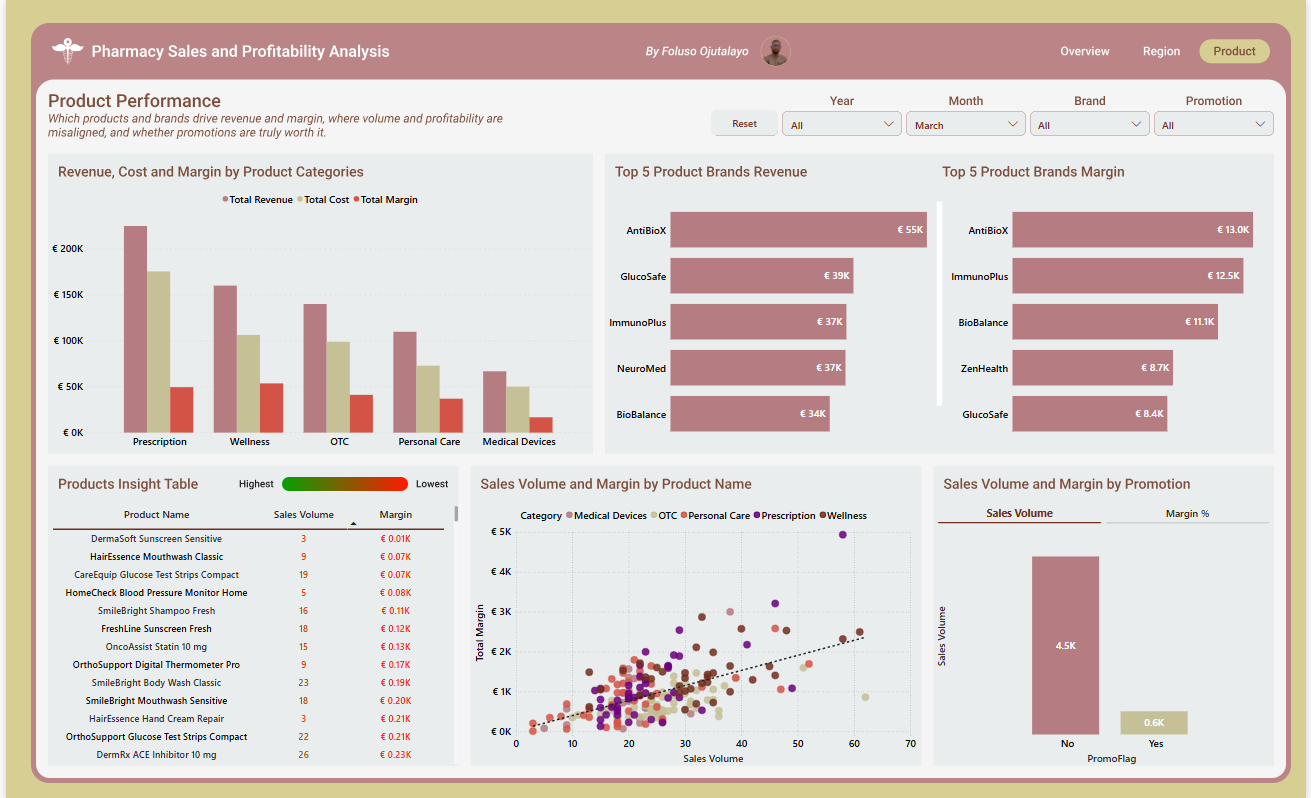

What the dashboard file says about the page in this screenshot:
{"tool":"powerbi","page":{"name":"Product","canvas":[2600,1600],"ordinal":2},"visuals":[{"type":"slicer","fields":{"Values":["DimProduct.Brand"]},"box":[2048.6,220.3,238.3,50.8],"z":0},{"type":"slicer","fields":{"Values":["FactSales.PromoFlag"]},"box":[2296.4,220.3,238.6,50.7],"z":1000},{"type":"slicer","fields":{"Values":["DimDate.Month"]},"box":[1801.4,220.1,237.8,51.1],"z":2000},{"type":"slicer","fields":{"Values":["DimDate.Year"]},"box":[1554.3,220.4,237.6,50.6],"z":3000},{"type":"actionButton","title":"Reset","box":[1410.8,220.1,134,51.2],"z":4000},{"type":"clusteredColumnChart","fields":{"Category":["DimProduct.Category"],"Y":["_Measures.Total Revenue","_Measures.Total Cost","_Measures.Total Margin"]},"box":[85.6,374.4,1088.9,532.2],"z":5000},{"type":"clusteredBarChart","fields":{"Category":["DimProduct.Brand"],"Y":["_Measures.Total Revenue"]},"box":[1200,374.4,651.1,533.3],"z":6000},{"type":"clusteredBarChart","fields":{"Category":["DimProduct.Brand"],"Y":["_Measures.Total Margin"]},"box":[1883.3,373.3,651.1,533.3],"z":7000},{"type":"tableEx","fields":{"Values":["DimProduct.ProductName","_Measures.Sales Volume","_Measures.Total Margin"]},"box":[87,1005,822,528],"z":8000},{"type":"scatterChart","fields":{"X":["_Measures.Sales Volume"],"Category":["DimProduct.ProductName"],"Y":["_Measures.Total Margin"],"Series":["DimProduct.Category"]},"box":[931.4,1005.7,892.9,528.6],"z":9000},{"type":"clusteredColumnChart","fields":{"Y":["_Measures.Sales Volume"],"Category":["FactSales.PromoFlag"]},"box":[1855,1061,679,472],"z":10000},{"type":"advancedSlicerVisual","fields":{"Values":["Sales Volume Margin %.Sales Volume Margin %"]},"box":[1858.7,996,674,56],"z":14000},{"type":"actionButton","box":[2098.8,82.5,123.8,43.8],"z":14001},{"type":"actionButton","box":[2248.8,82.5,123.8,43.8],"z":14002},{"type":"actionButton","box":[2397.5,82.5,123.8,43.8],"z":14003}]}

Visuals, with their boxes in screenshot pixels (x1, y1, x2, y2), scaled from the page's 2600x1600 canvas onto the 1311x798 screenshot:
slicer - DimProduct.Brand: bbox=(1033, 110, 1153, 135)
slicer - FactSales.PromoFlag: bbox=(1158, 110, 1278, 135)
slicer - DimDate.Month: bbox=(908, 110, 1028, 135)
slicer - DimDate.Year: bbox=(784, 110, 904, 135)
"Reset" actionButton: bbox=(711, 110, 779, 135)
clusteredColumnChart - DimProduct.Category x _Measures.Total Revenue: bbox=(43, 187, 592, 452)
clusteredBarChart - DimProduct.Brand x _Measures.Total Revenue: bbox=(605, 187, 933, 453)
clusteredBarChart - DimProduct.Brand x _Measures.Total Margin: bbox=(950, 186, 1278, 452)
tableEx - DimProduct.ProductName x _Measures.Sales Volume: bbox=(44, 501, 458, 765)
scatterChart - _Measures.Sales Volume x DimProduct.ProductName: bbox=(470, 502, 920, 765)
clusteredColumnChart - _Measures.Sales Volume x FactSales.PromoFlag: bbox=(935, 529, 1278, 765)
advancedSlicerVisual - Sales Volume Margin %.Sales Volume Margin %: bbox=(937, 497, 1277, 525)
actionButton: bbox=(1058, 41, 1121, 63)
actionButton: bbox=(1134, 41, 1196, 63)
actionButton: bbox=(1209, 41, 1271, 63)
